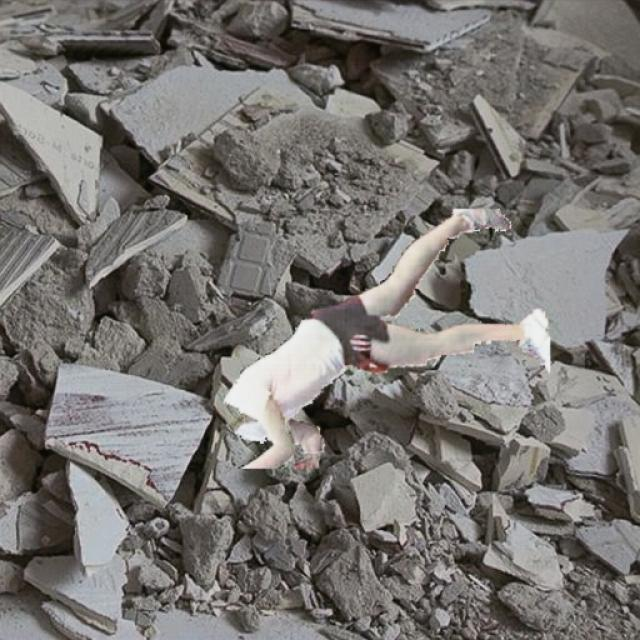Person in Rubble: (224, 208, 548, 468)
